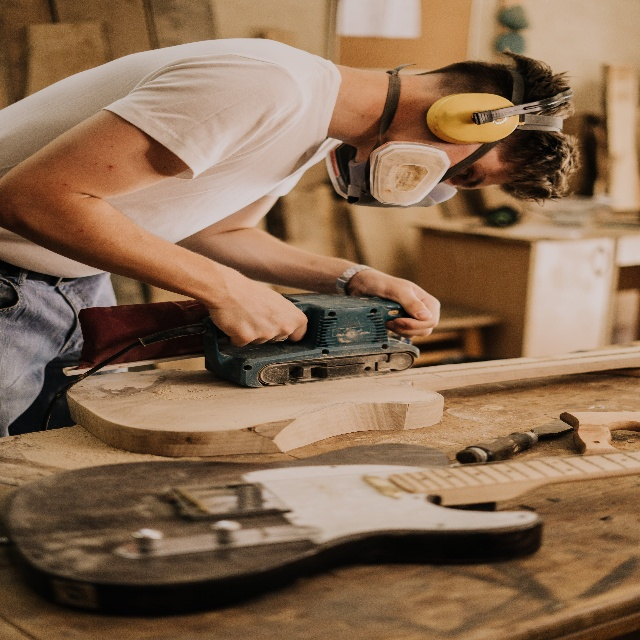Sin_guantes: (213, 265, 309, 344), (357, 269, 441, 338)
